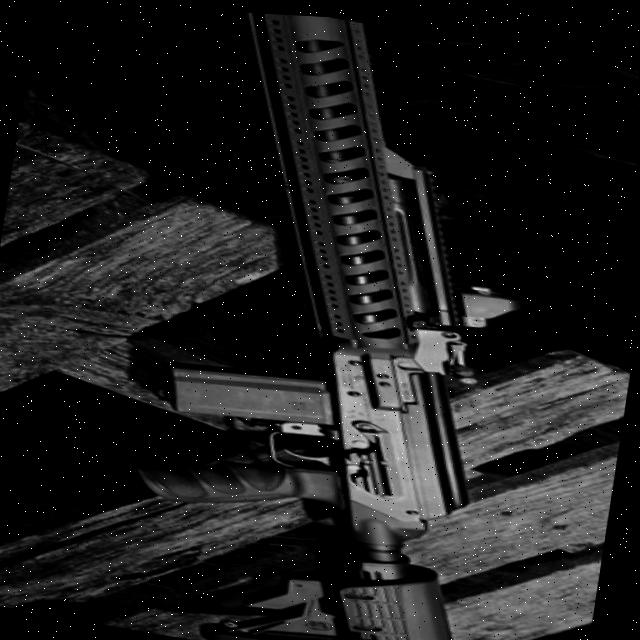firearm: (102, 5, 572, 640)
